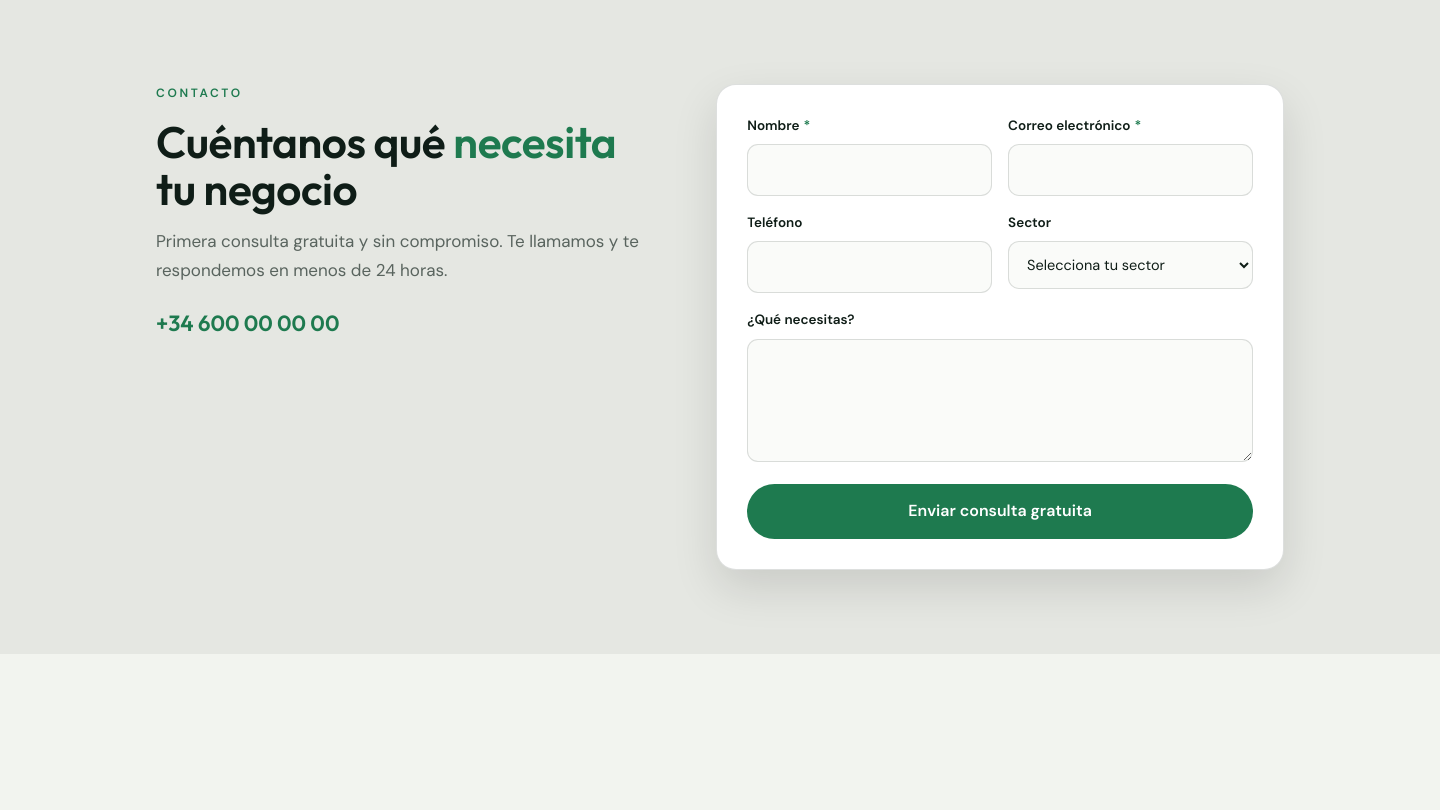
Contacto (comportamiento) › @s3 con el correo "hola@@mal" muestra error de formato y no envía
In the field labelled "Nombre*": (870, 170) x1=747 y1=144 x2=992 y2=196, type "Ana"
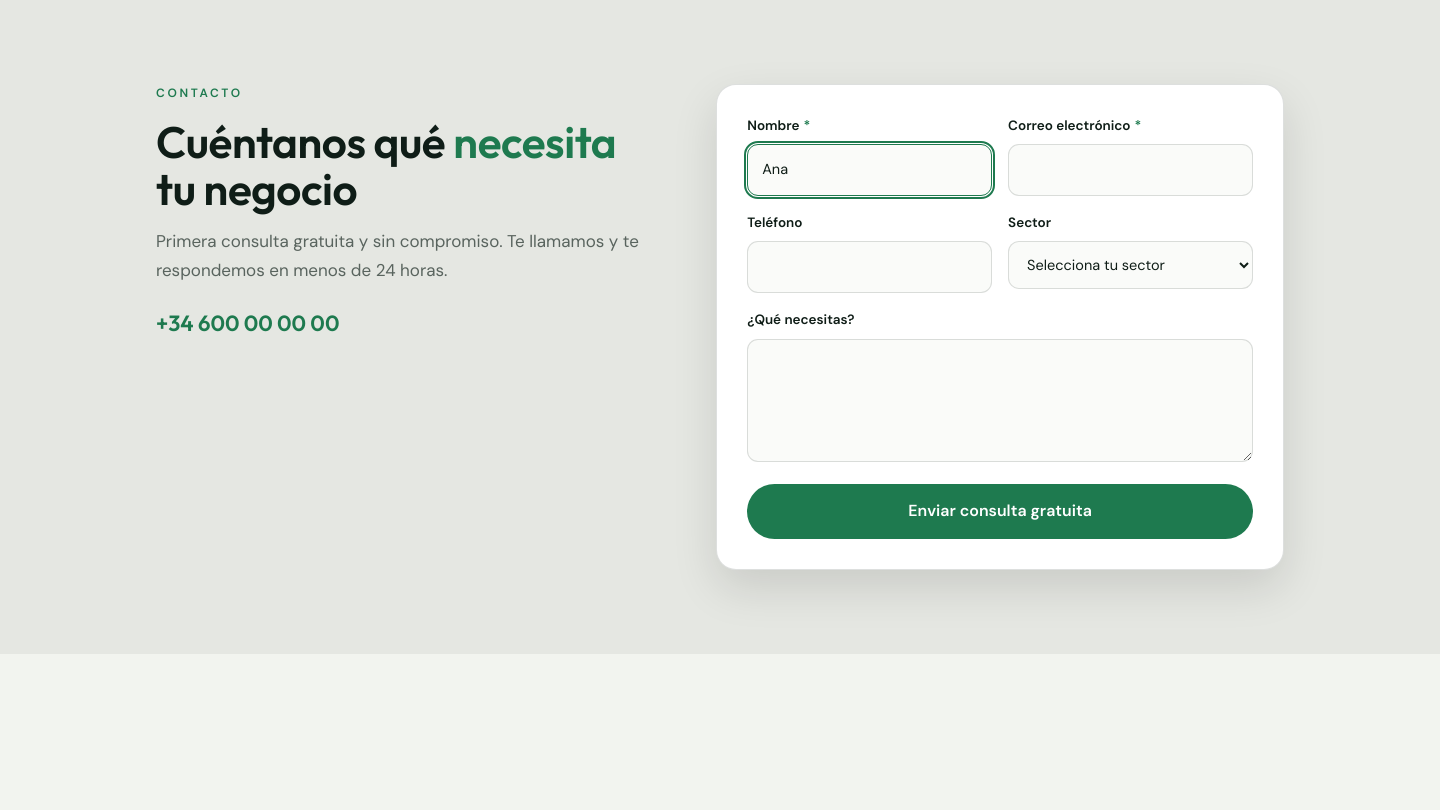
In the field labelled "Correo electrónico*": (1131, 170) x1=1008 y1=144 x2=1253 y2=196, type "hola@@mal"
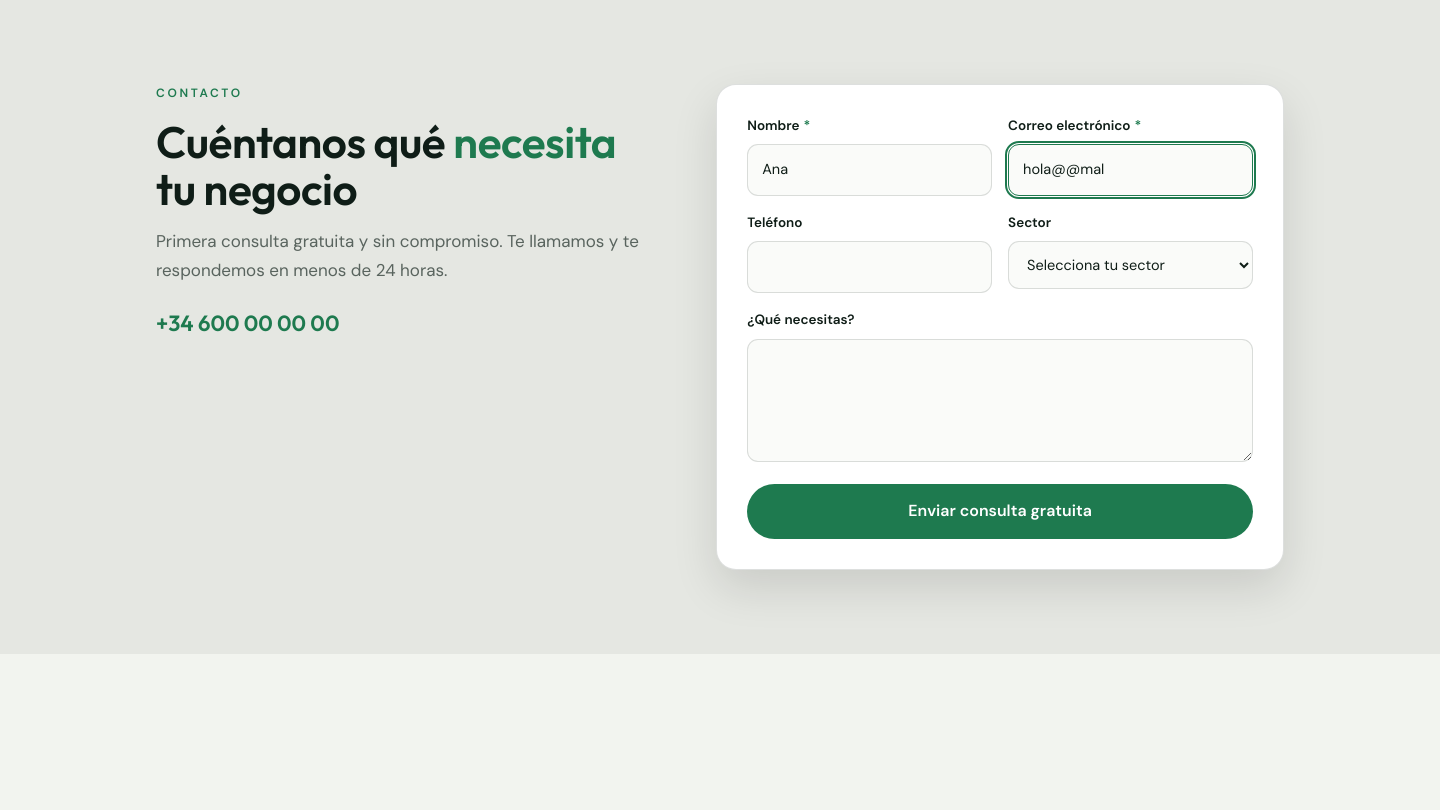
Click the button "Enviar consulta gratuita": (1000, 512) x1=747 y1=484 x2=1253 y2=539
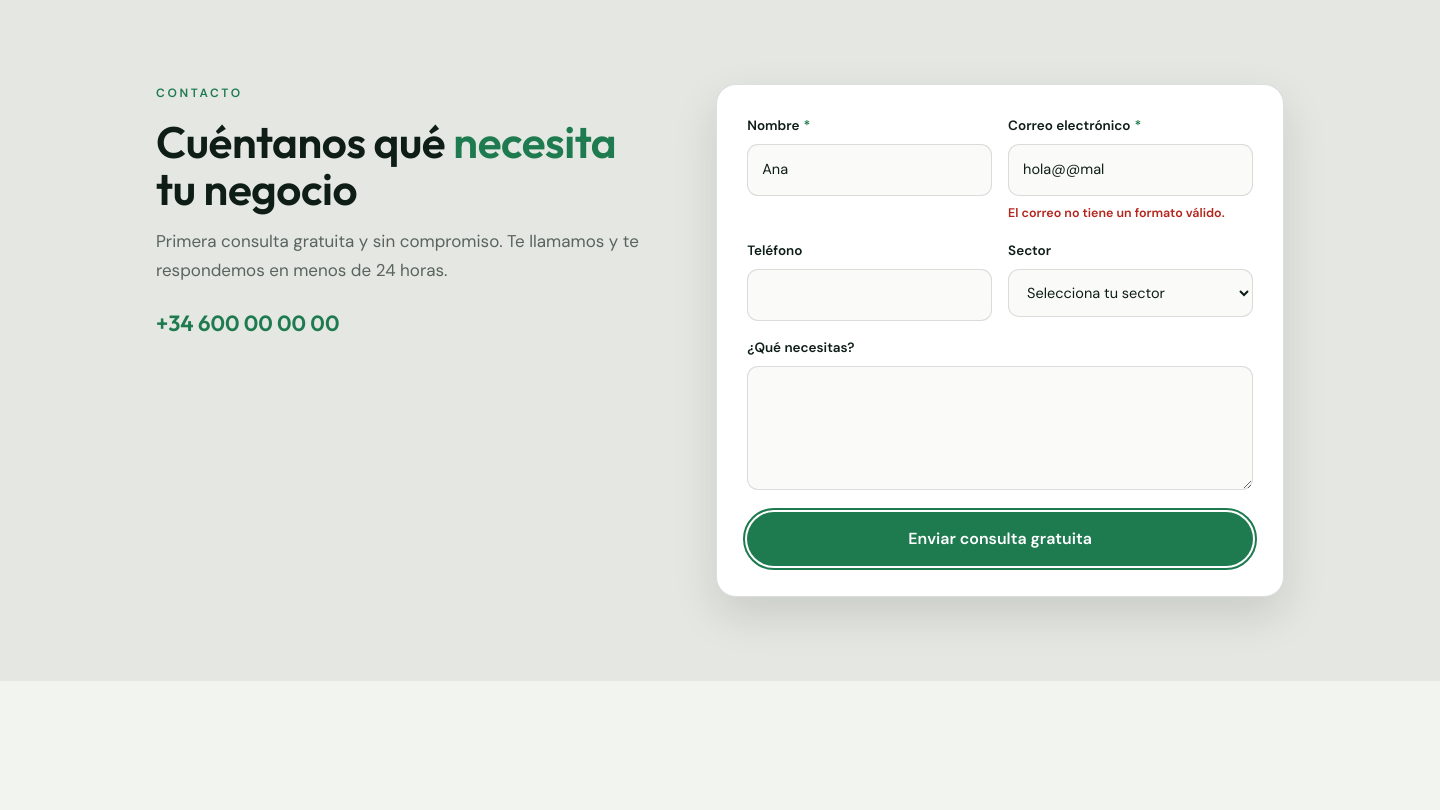
Result: the text "El correo no tiene un formato válido." is shown at x1=1008 y1=203 x2=1253 y2=224
